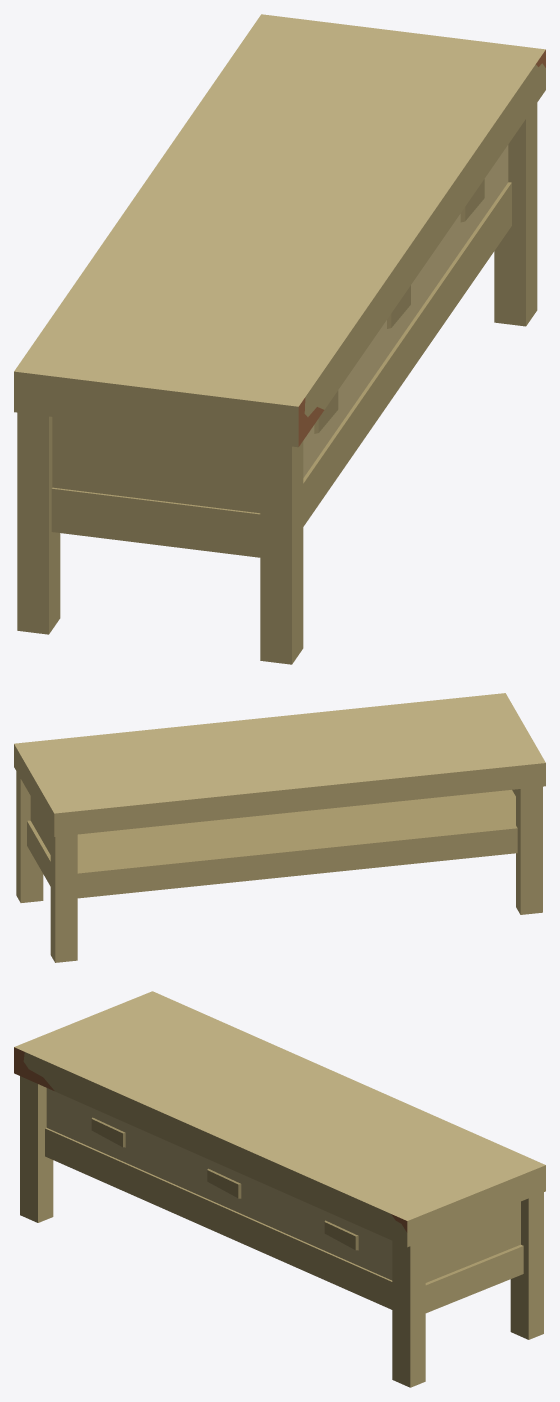
Rendered from MSH_QuestObject_container_01.fbx.
3 views of the same model, one above another, from view 1: azimuth 30°, elevation 25°; view 2: azimuth 150°, elevation 25°; view 3: azimuth 270°, elevation 25° (orthographic). The views are drawn at different scales.
Parts seen in each view (by area): view 1: MSH_QuestObject_container_01; view 2: MSH_QuestObject_container_01; view 3: MSH_QuestObject_container_01.
Part boxes in pixels (<box>): MSH_QuestObject_container_01: <box>14,14,545,664</box>; MSH_QuestObject_container_01: <box>14,693,545,962</box>; MSH_QuestObject_container_01: <box>14,991,545,1387</box>.
Bounding box in the file's own units: 4.58 × 1.56 × 4.47.
